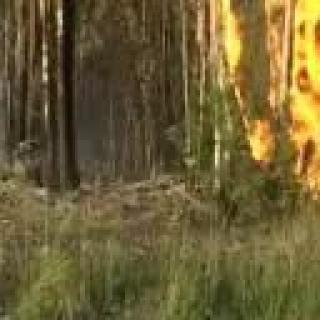fire: (193, 0, 320, 181), (314, 180, 320, 225)
